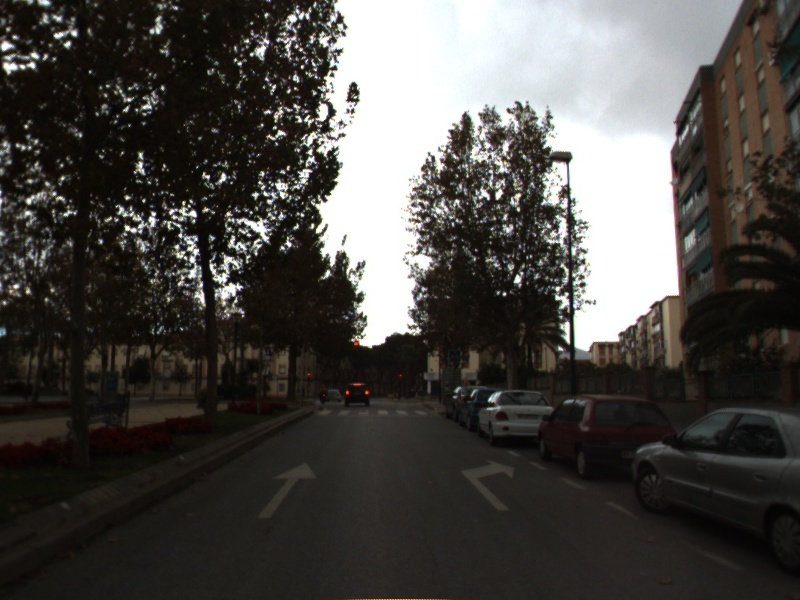RIGHT: (458, 457, 517, 513)
STRAIGHT: (255, 460, 319, 521)
